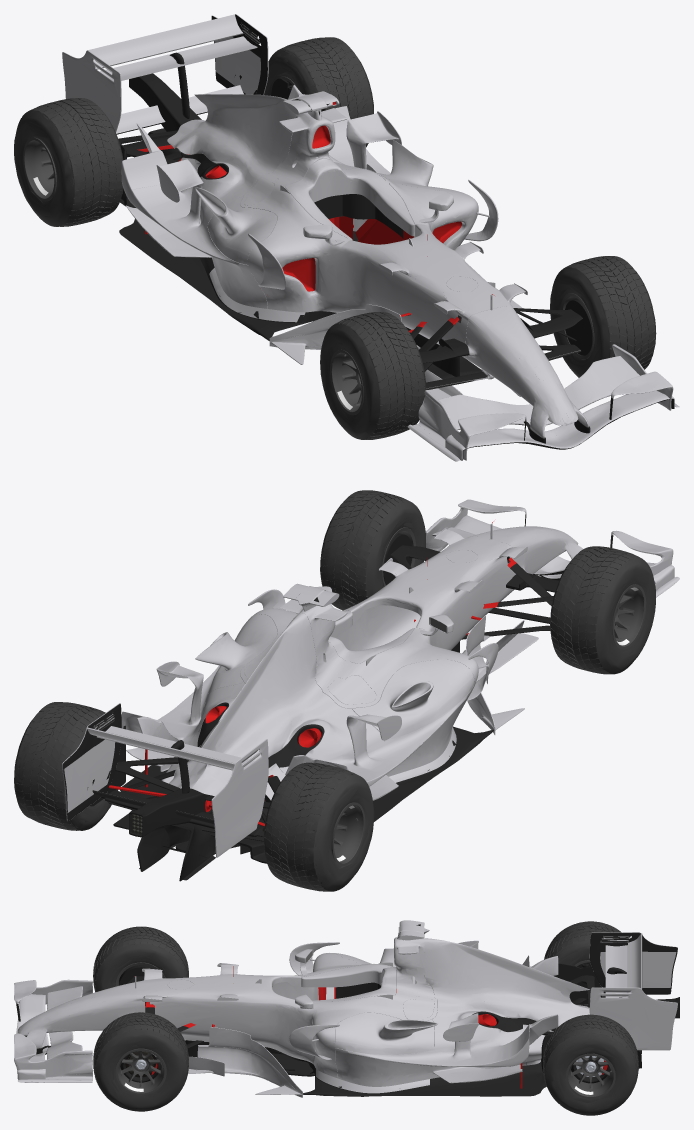
The model's file is f1-05-renault.glb.
3 renders of one model, top to bottom at view 1: azimuth 30°, elevation 25°; view 2: azimuth 150°, elevation 25°; view 3: azimuth 270°, elevation 25°, orthographic. The views are drawn at different scales.
Parts seen in each view (by area): view 1: BODY, WHEEL_RR, WHEEL_RF, WHEEL_LF, WHEEL_LR; view 2: BODY, WHEEL_RR, WHEEL_RF, WHEEL_LF, WHEEL_LR; view 3: BODY, WHEEL_LR, WHEEL_LF, WHEEL_RF, WHEEL_RR.
Boxes of the visible parts, box(x1,y1,x2,y2) form: BODY: box(62, 14, 679, 461); WHEEL_RR: box(14, 98, 123, 226); WHEEL_RF: box(320, 312, 426, 439); WHEEL_LF: box(550, 256, 656, 377); WHEEL_LR: box(264, 37, 373, 147); BODY: box(62, 499, 679, 881); WHEEL_RR: box(263, 762, 374, 891); WHEEL_RF: box(550, 546, 655, 674); WHEEL_LF: box(320, 490, 425, 610); WHEEL_LR: box(14, 702, 117, 830); BODY: box(14, 920, 679, 1097); WHEEL_LR: box(543, 1014, 638, 1115); WHEEL_LF: box(93, 1012, 188, 1111); WHEEL_RF: box(93, 926, 188, 992); WHEEL_RR: box(544, 921, 628, 1005).
Bounding box in the file's own units: 1.91 × 1.04 × 4.65.
